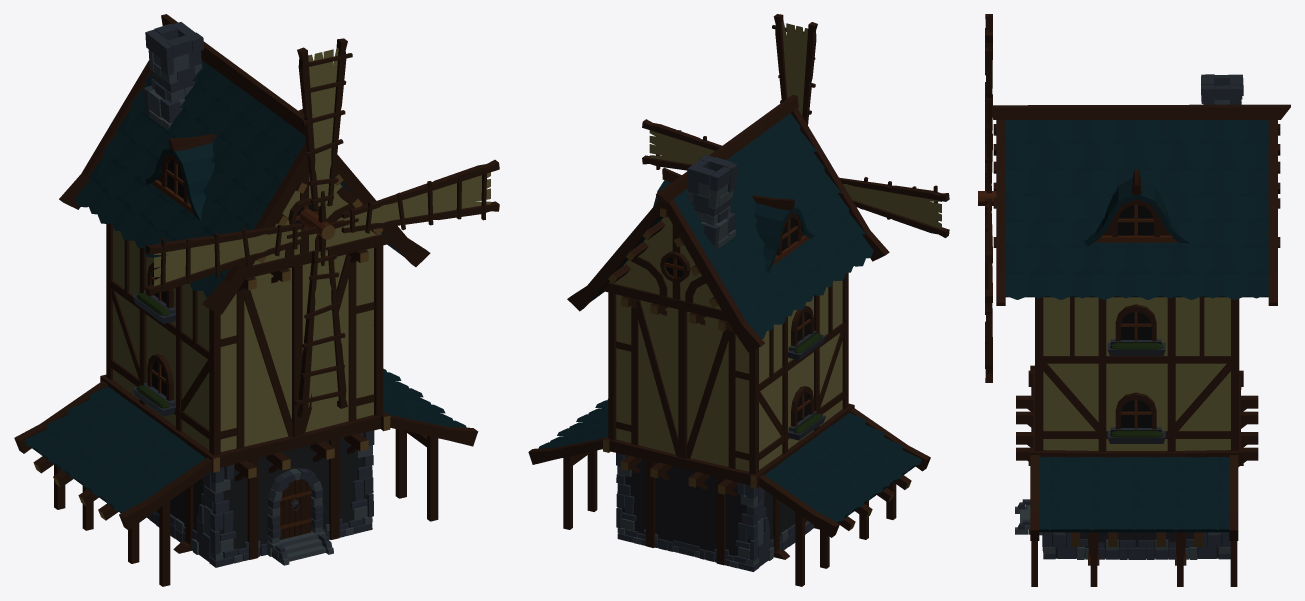
Rendered from Mill.obj.
3 views of the same model, side by side, from view 1: azimuth 30°, elevation 25°; view 2: azimuth 150°, elevation 25°; view 3: azimuth 270°, elevation 25° (orthographic). The views are drawn at different scales.
Parts seen in each view (by area): view 1: Mill; view 2: Mill; view 3: Mill.
Part boxes in pixels (x1=…): Mill: x1=14, y1=14, x2=499, y2=586; Mill: x1=528, y1=14, x2=949, y2=586; Mill: x1=978, y1=14, x2=1290, y2=586.
Bounding box in the file's own units: 3.4 × 4.8 × 2.73.
